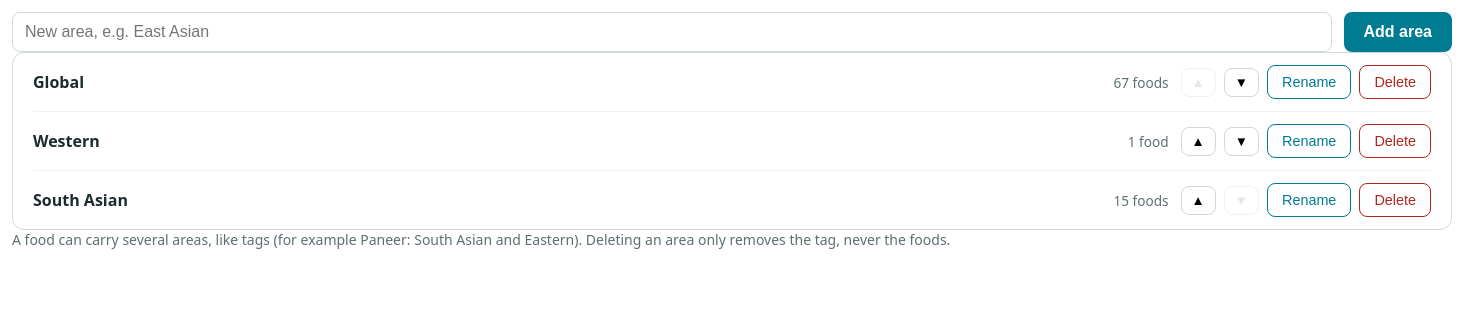
Test case: AreasPage › shows the server error and keeps the list when a change fails
The image size is (1464, 309).
Click the button "Delete" in the row of "Western". click: (1395, 141)
box: top-left (1359, 124), bottom-right (1431, 158)
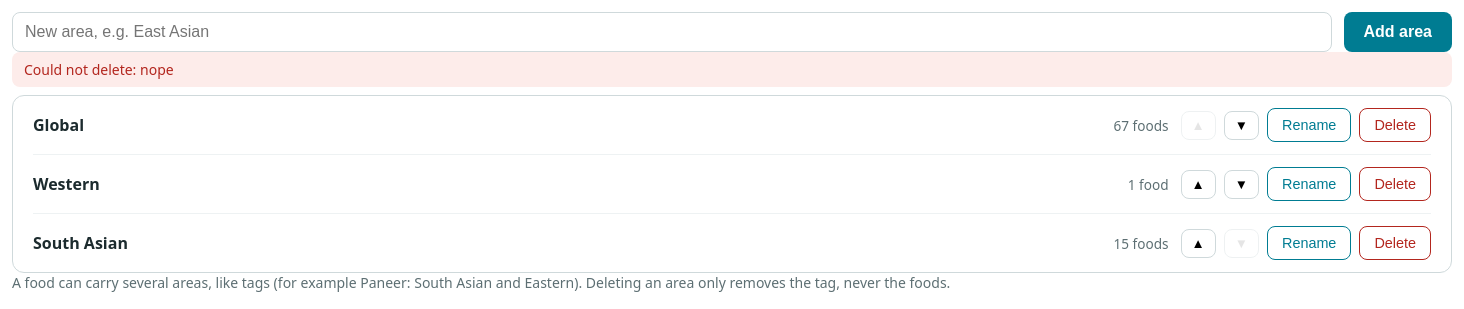
expect the text "Western" is shown: met, box top-left (33, 173), bottom-right (100, 195)
expect the message reads "Could not delete: nope": met, box top-left (24, 60), bottom-right (174, 79)
